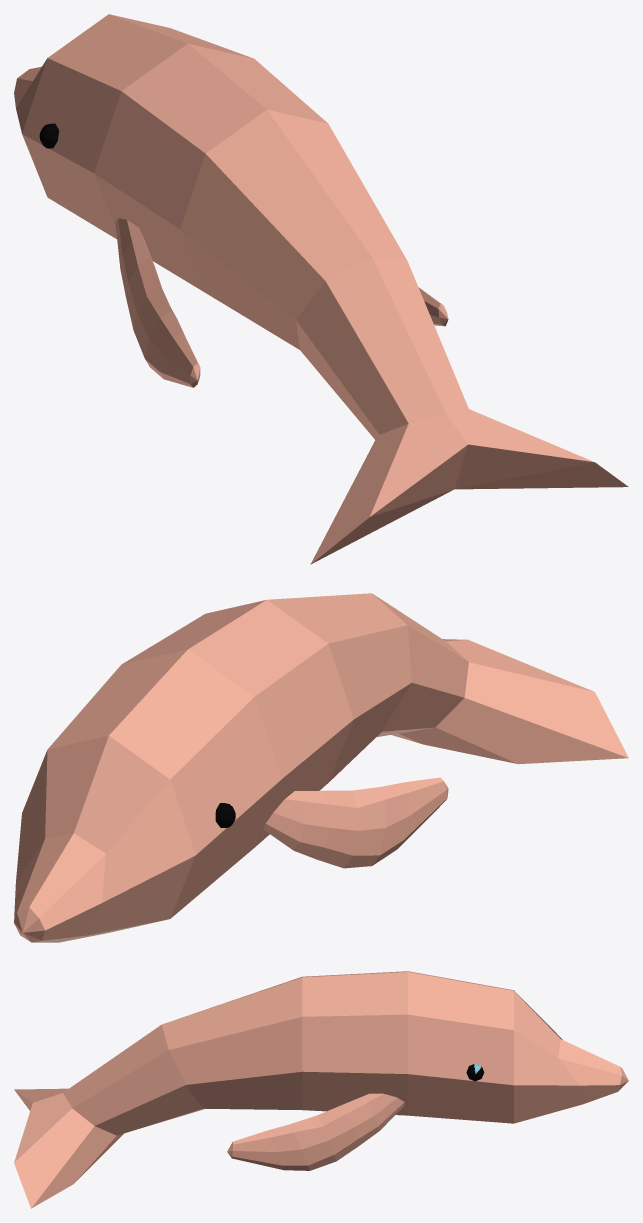
Rendered from obs_med_dolphin (1).fbx.
3 views of the same model, one above another, from view 1: azimuth 30°, elevation 25°; view 2: azimuth 150°, elevation 25°; view 3: azimuth 270°, elevation 25° (orthographic). The views are drawn at different scales.
Visible parts, largest first — view 1: polySurface22; view 2: polySurface22; view 3: polySurface22.
Boxes of the visible parts, x1=… form: polySurface22: x1=14, y1=14, x2=628, y2=564; polySurface22: x1=14, y1=593, x2=628, y2=942; polySurface22: x1=14, y1=971, x2=628, y2=1208.
Size of the model in its own units: 1.34 by 1.11 by 3.33.
